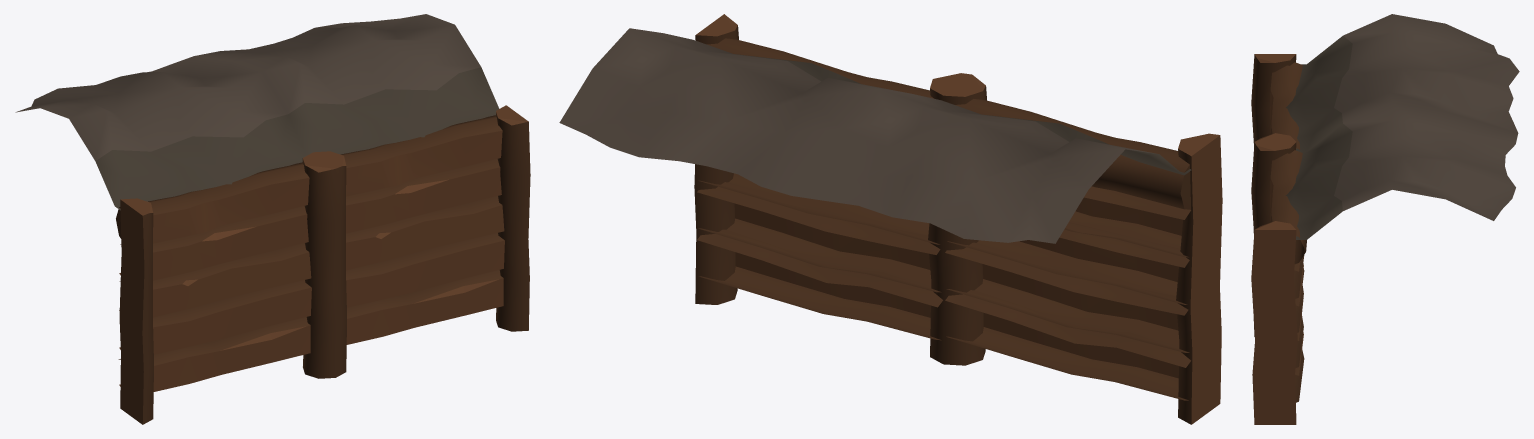
File: 20C_trench_200.fbx
3 views of the same model, side by side, from view 1: azimuth 30°, elevation 25°; view 2: azimuth 150°, elevation 25°; view 3: azimuth 270°, elevation 25° (orthographic). The views are drawn at different scales.
Parts seen in each view (by area): view 1: 20C_trench_200; view 2: 20C_trench_200; view 3: 20C_trench_200.
Part boxes in pixels (x1,y1,x2,y2): 20C_trench_200: (15,14,530,424); 20C_trench_200: (559,14,1222,424); 20C_trench_200: (1251,14,1519,424).
Size of the model in its own units: 40 by 24.96 by 25.82.
1 material, 1 textured.
